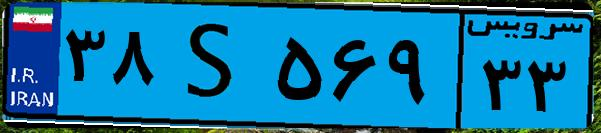3: (57, 26, 110, 100), (475, 38, 525, 113), (525, 38, 570, 115)
5: (270, 28, 330, 110)
6: (330, 28, 385, 110)
8: (110, 28, 158, 98)
9: (385, 28, 445, 110)
S: (158, 12, 270, 120)
